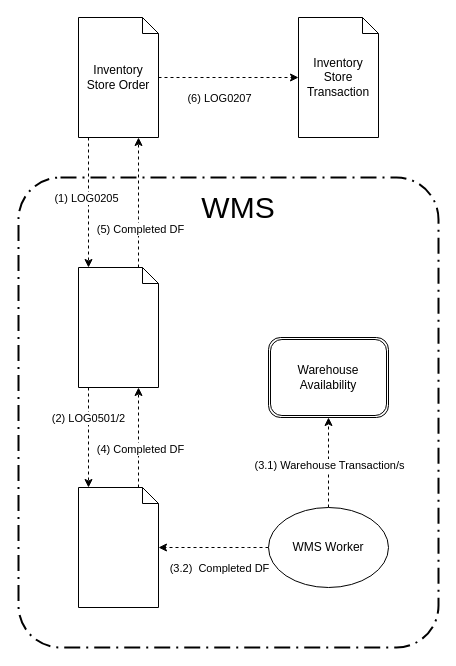
This 456x666 diagram has some shape labels left out. The box of each missing label's shape, as (x1, y1, x2, y2) in pixels:
Warehouse Order: (78, 486, 158, 608)
Warehouse Requisition: (78, 266, 158, 388)
